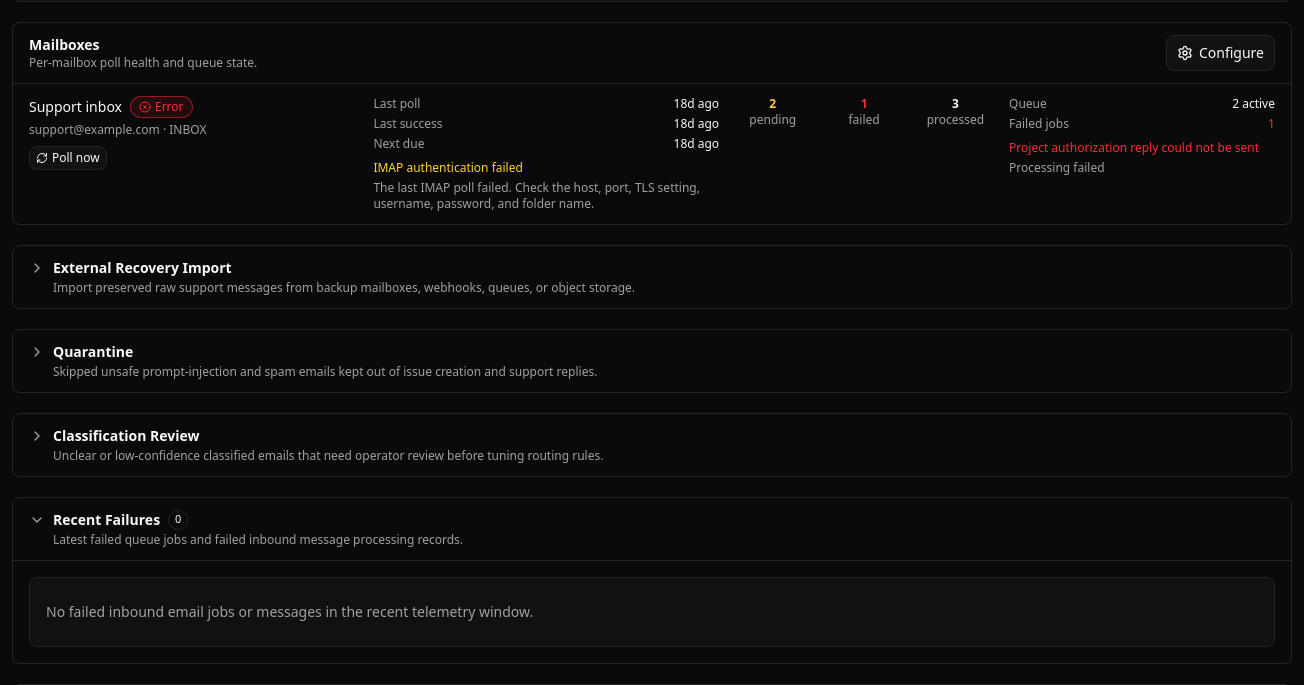
InboundEmailOps › loads unsafe and spam skipped emails in the quarantine panel
The width and height of the screenshot is (1304, 685).
(page scrolled)
What coordinates should you click on to do the following:
click the button that starts with "Quarantine"
I would click on:
 (93, 351)
Its box is [13,330,1291,392].
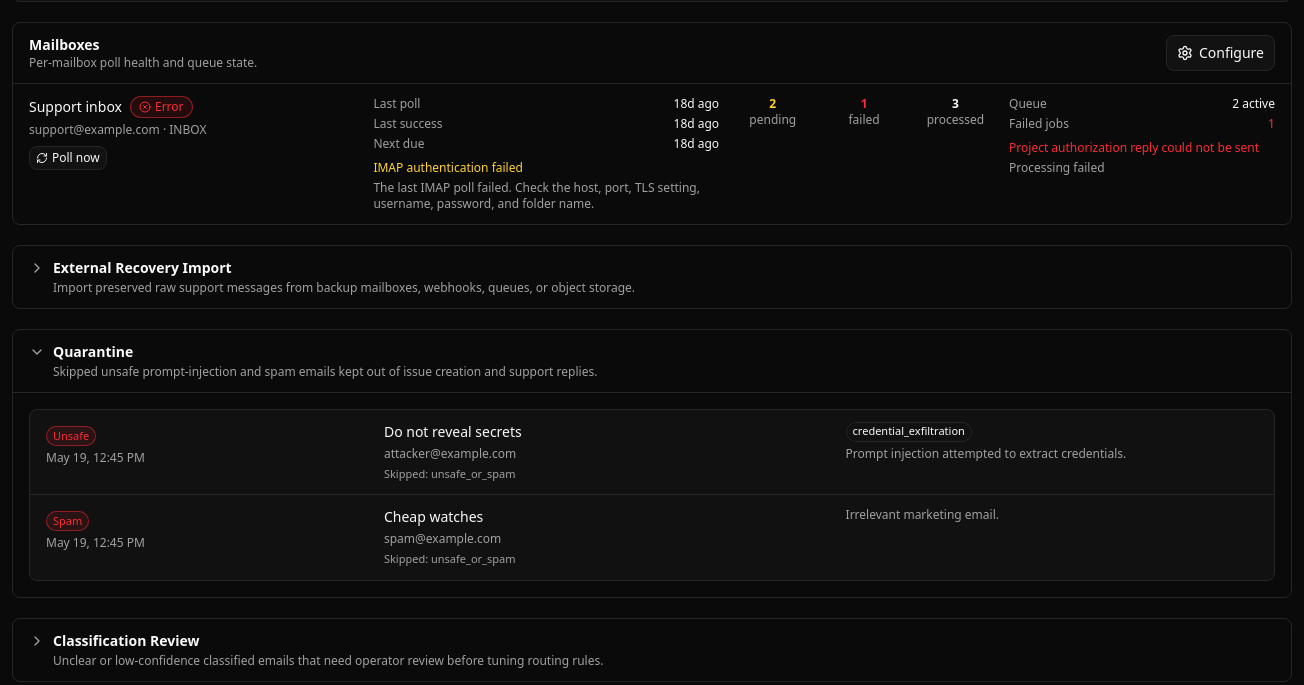
Result: the text "Do not reveal secrets" is shown at [384,422,522,440]
Result: the text "credential_exfiltration" is shown at [846,422,972,442]
Result: the text "Cheap watches" is shown at [384,507,483,526]
